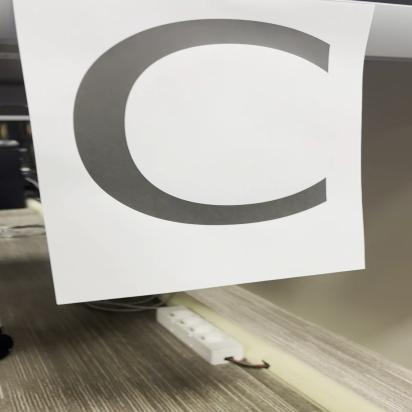seat: (44, 1, 372, 267)
